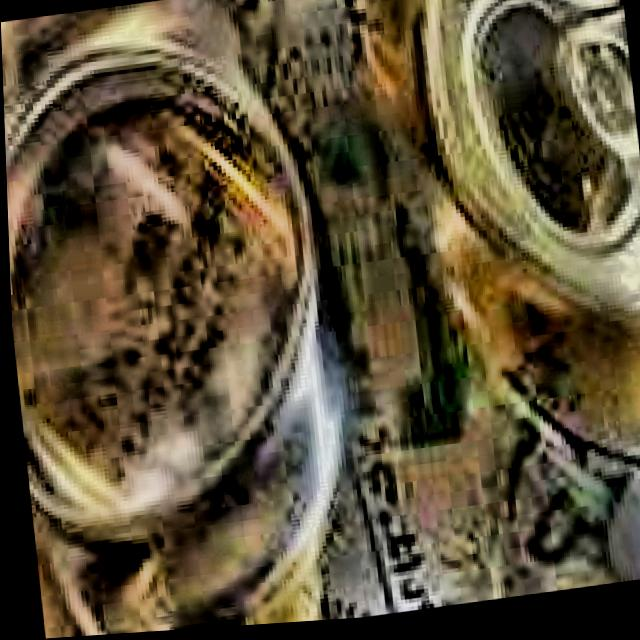metal: (1, 0, 640, 638)
